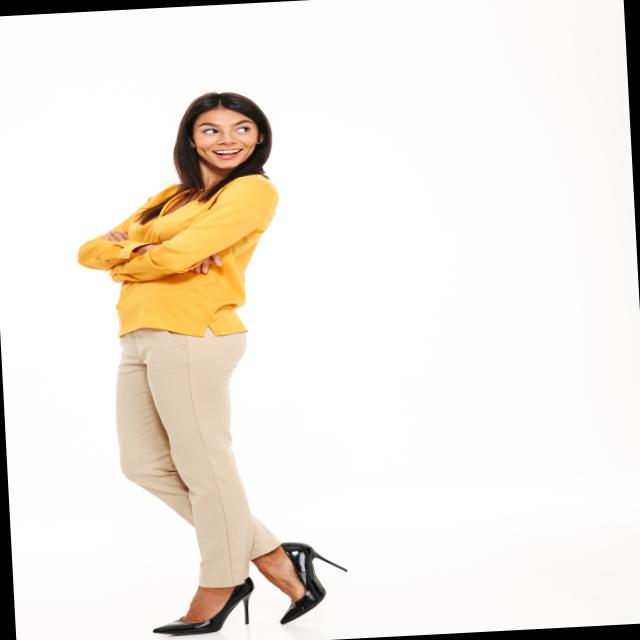Person: (68, 87, 348, 639)
